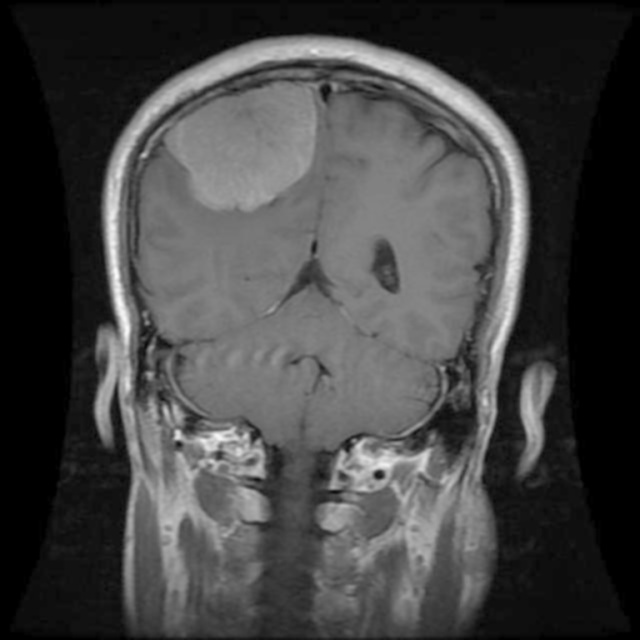meningioma tumor: (168, 76, 346, 222)
